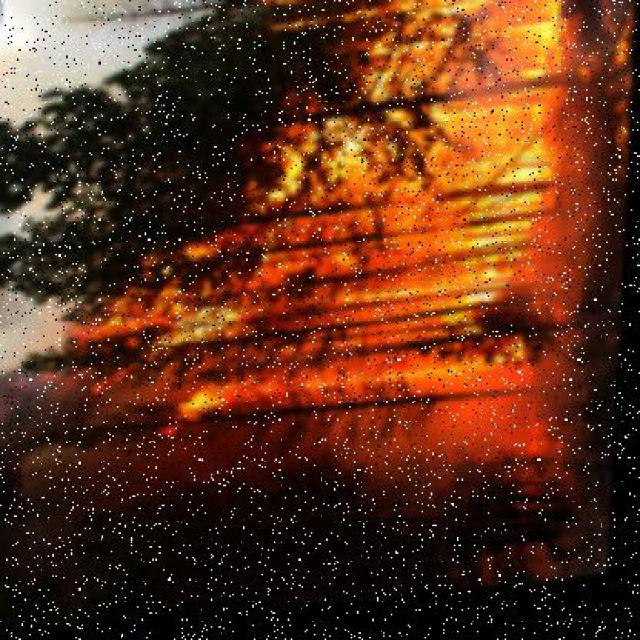fire: (260, 1, 569, 418)
